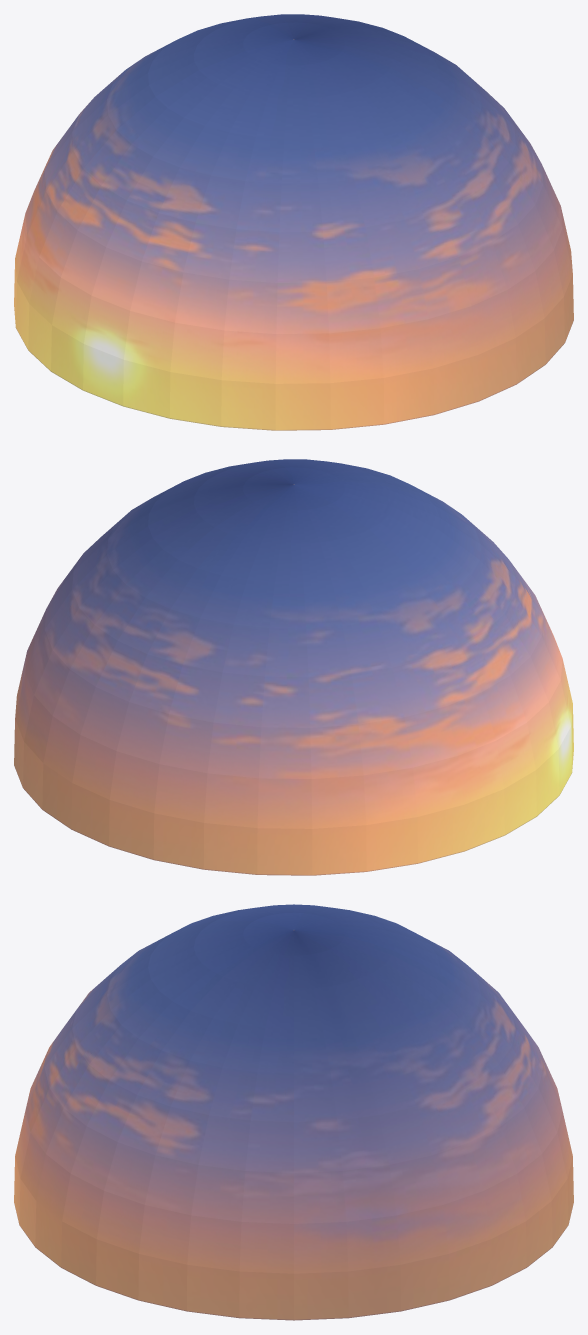
File: lugar-madrid-ciudad.glb
3 renders of one model, top to bottom at view 1: azimuth 30°, elevation 25°; view 2: azimuth 150°, elevation 25°; view 3: azimuth 270°, elevation 25°, orthographic.
Visible parts, largest first — view 1: planoC; view 2: planoC; view 3: planoC.
Boxes of the visible parts, x1,y1,x2,y2 form: planoC: [14, 14, 573, 430]; planoC: [14, 459, 573, 875]; planoC: [14, 904, 573, 1320].
Size of the model in its own units: 5985 by 3209 by 5985.
39 materials, 24 textured.
